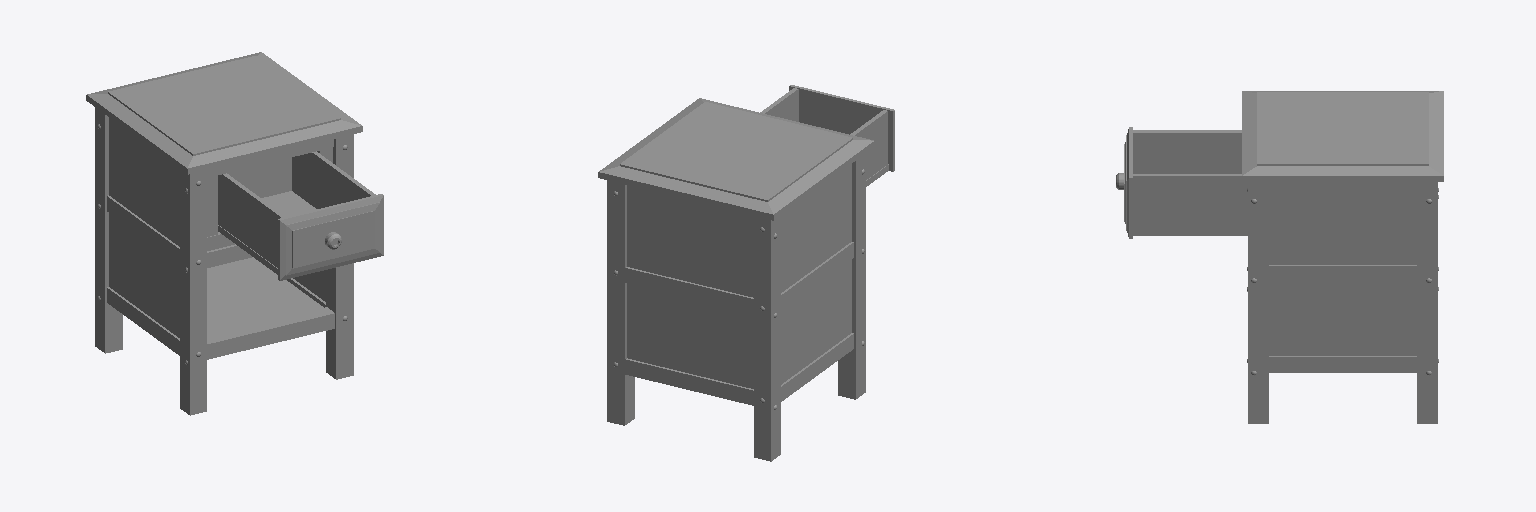
File: comode.obj
3 views of the same model, side by side, from view 1: azimuth 30°, elevation 25°; view 2: azimuth 150°, elevation 25°; view 3: azimuth 270°, elevation 25° (orthographic).
Parts seen in each view (by area): view 1: Drawer_top_Cube.004, Leg_Cube.002, Side_walls_Cube.005, Drawer_parts_Cube.014, Truss__Cube.017, Door_Cube.013, Base_2_Cube.016, truss_2_Cube.010, truss_3_Cube.007; view 2: Side_walls_Cube.005, Drawer_top_Cube.004, Leg_Cube.002, Truss__Cube.017, Door_Cube.013, Drawer_parts_Cube.014; view 3: Side_walls_Cube.005, Drawer_top_Cube.004, Drawer_parts_Cube.014, Leg_Cube.002, Truss__Cube.017, Door_Cube.013.
Boxes of the visible parts, box(x1,y1,x2,y2) form: Drawer_top_Cube.004: box(86, 52, 362, 174); Leg_Cube.002: box(95, 107, 353, 415); Side_walls_Cube.005: box(109, 118, 325, 337); Drawer_parts_Cube.014: box(218, 151, 375, 274); Truss__Cube.017: box(107, 195, 334, 359); Door_Cube.013: box(278, 194, 383, 280); Base_2_Cube.016: box(207, 257, 323, 335); truss_2_Cube.010: box(207, 139, 333, 250); truss_3_Cube.007: box(207, 147, 332, 236); Side_walls_Cube.005: box(627, 164, 851, 388); Drawer_top_Cube.004: box(598, 98, 874, 220); Leg_Cube.002: box(607, 154, 865, 461); Truss__Cube.017: box(625, 242, 853, 405); Door_Cube.013: box(789, 85, 894, 171); Drawer_parts_Cube.014: box(760, 88, 888, 186); Side_walls_Cube.005: box(1269, 182, 1416, 355); Drawer_top_Cube.004: box(1242, 91, 1443, 181); Drawer_parts_Cube.014: box(1133, 130, 1247, 235); Leg_Cube.002: box(1248, 182, 1437, 423); Truss__Cube.017: box(1269, 265, 1416, 372); Door_Cube.013: box(1124, 127, 1132, 238).
Size of the model in its own units: 2.39 by 3.34 by 3.88.